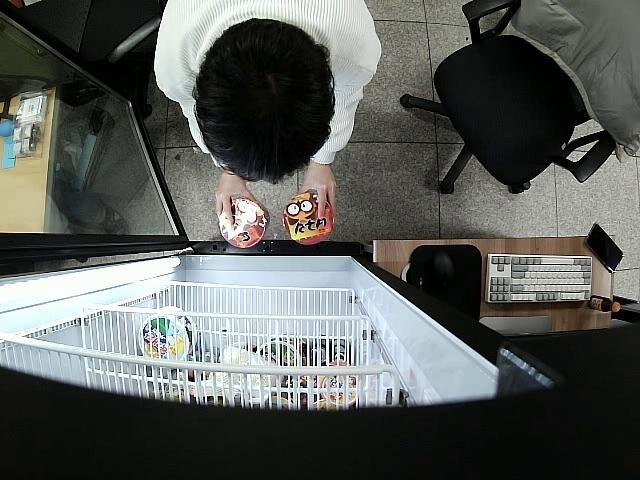05_nuguri_L: (218, 198, 271, 248), (284, 194, 336, 244)
